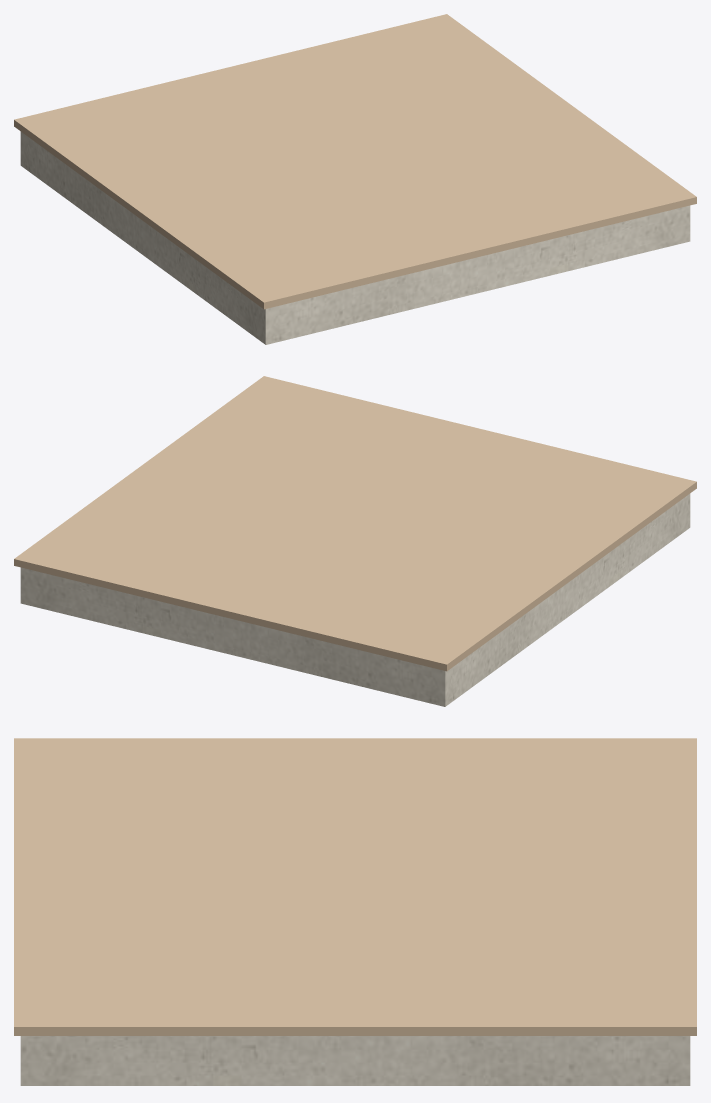
File: floor_tile.glb
3 views of the same model, one above another, from view 1: azimuth 30°, elevation 25°; view 2: azimuth 150°, elevation 25°; view 3: azimuth 270°, elevation 25° (orthographic). The views are drawn at different scales.
Visible parts, largest first — view 1: floor_tile_floor, floor_tile_plaster; view 2: floor_tile_floor, floor_tile_plaster; view 3: floor_tile_floor, floor_tile_plaster.
Boxes of the visible parts, x1,y1,x2,y2 form: floor_tile_floor: (14,14,696,309); floor_tile_plaster: (20,131,690,344); floor_tile_floor: (14,376,696,671); floor_tile_plaster: (20,493,690,706); floor_tile_floor: (14,738,696,1035); floor_tile_plaster: (20,1036,690,1085).
Size of the model in its own units: 2 by 0.2 by 2.
2 materials, 1 textured.
